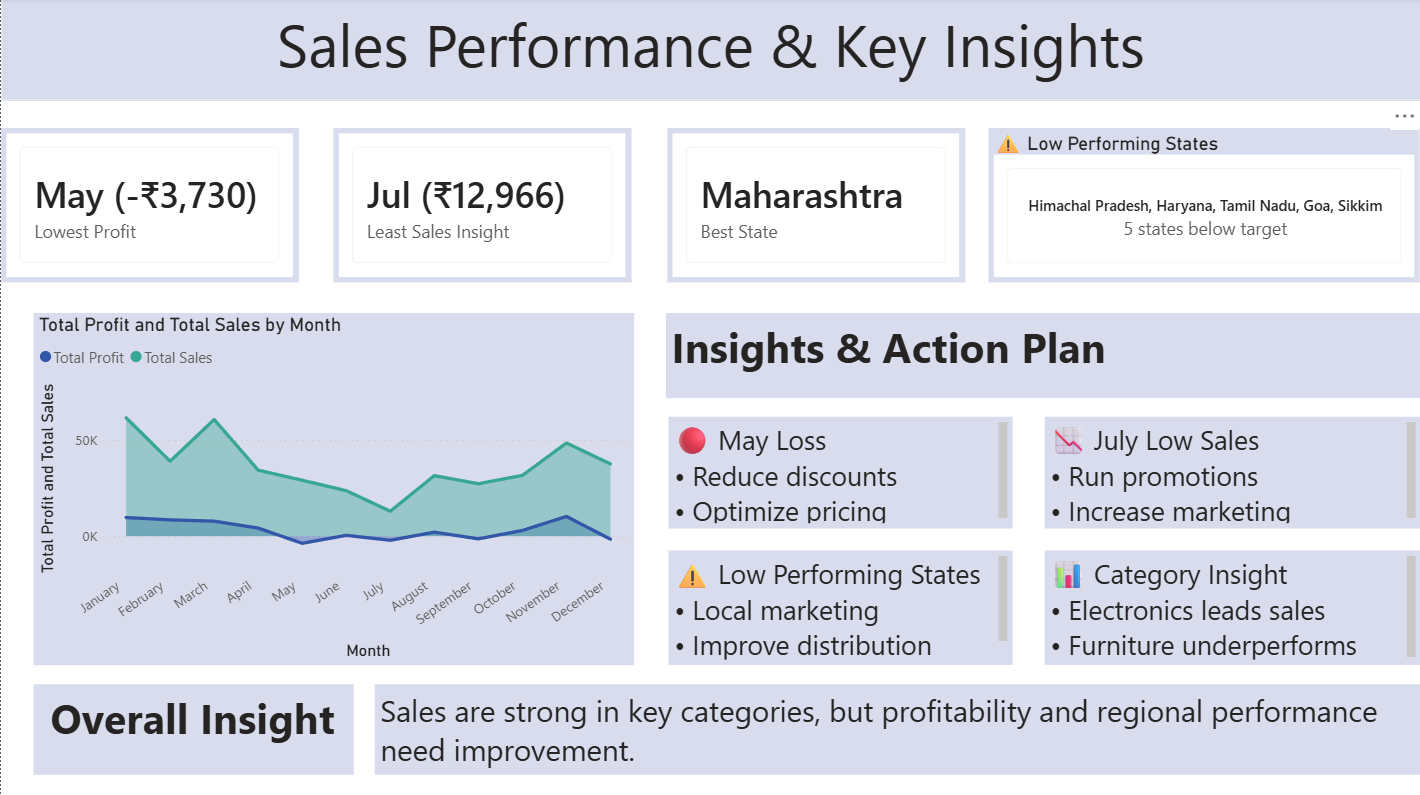

Layout of this report page (visuals, bound fields, positions):
{"tool":"powerbi","page":{"name":"Insight","canvas":[1280,720],"ordinal":1},"visuals":[{"type":"cardVisual","fields":{"Data":["Details.Profit Insight"]},"box":[0,117.7,269,139.3],"z":0},{"type":"cardVisual","fields":{"Data":["Details.Least Sales Insight"]},"box":[300.2,117.7,269,139.3],"z":1000},{"type":"cardVisual","fields":{"Data":["Details.Best State"]},"box":[600.4,117.7,269,139.3],"z":2000},{"type":"cardVisual","title":"⚠️ Low Performing States","fields":{"Data":["Details.Low States Text"]},"box":[891,117.7,389,139.3],"z":3000},{"type":"textbox","box":[0,0,1280,92.5],"z":4000},{"type":"areaChart","fields":{"Category":["Orders.Order Date.Variation.Date Hierarchy.Month"],"Y":["Details.Total Profit","Orders.Total Sales"]},"box":[28.9,283.9,541.4,317.6],"z":5000},{"type":"textbox","box":[601.5,377.7,310.4,101.1],"z":6000},{"type":"textbox","box":[599.1,283.9,680.9,77],"z":7000},{"type":"textbox","box":[601.5,498,310.4,103.5],"z":8000},{"type":"textbox","box":[940.8,377.7,339.2,101.1],"z":8001},{"type":"textbox","box":[940.8,498,339.2,103.5],"z":8002},{"type":"textbox","box":[336.8,618.3,943.2,81.8],"z":8003},{"type":"textbox","box":[28.9,618.3,288.7,81.8],"z":8004}]}

Visuals, with their boxes in screenshot pixels (x1, y1, x2, y2), scaled from the page's 1280x720 canvas onto the 1420x795 screenshot:
cardVisual - Details.Profit Insight: pyautogui.locateOnScreen(0, 130, 298, 284)
cardVisual - Details.Least Sales Insight: pyautogui.locateOnScreen(333, 130, 631, 284)
cardVisual - Details.Best State: pyautogui.locateOnScreen(666, 130, 964, 284)
"⚠️ Low Performing States" cardVisual: pyautogui.locateOnScreen(988, 130, 1419, 284)
textbox: pyautogui.locateOnScreen(0, 0, 1419, 102)
areaChart - Orders.Order Date.Variation.Date Hierarchy.Month x Details.Total Profit: pyautogui.locateOnScreen(32, 313, 633, 664)
textbox: pyautogui.locateOnScreen(667, 417, 1012, 529)
textbox: pyautogui.locateOnScreen(665, 313, 1419, 398)
textbox: pyautogui.locateOnScreen(667, 550, 1012, 664)
textbox: pyautogui.locateOnScreen(1044, 417, 1419, 529)
textbox: pyautogui.locateOnScreen(1044, 550, 1419, 664)
textbox: pyautogui.locateOnScreen(374, 683, 1419, 773)
textbox: pyautogui.locateOnScreen(32, 683, 352, 773)
